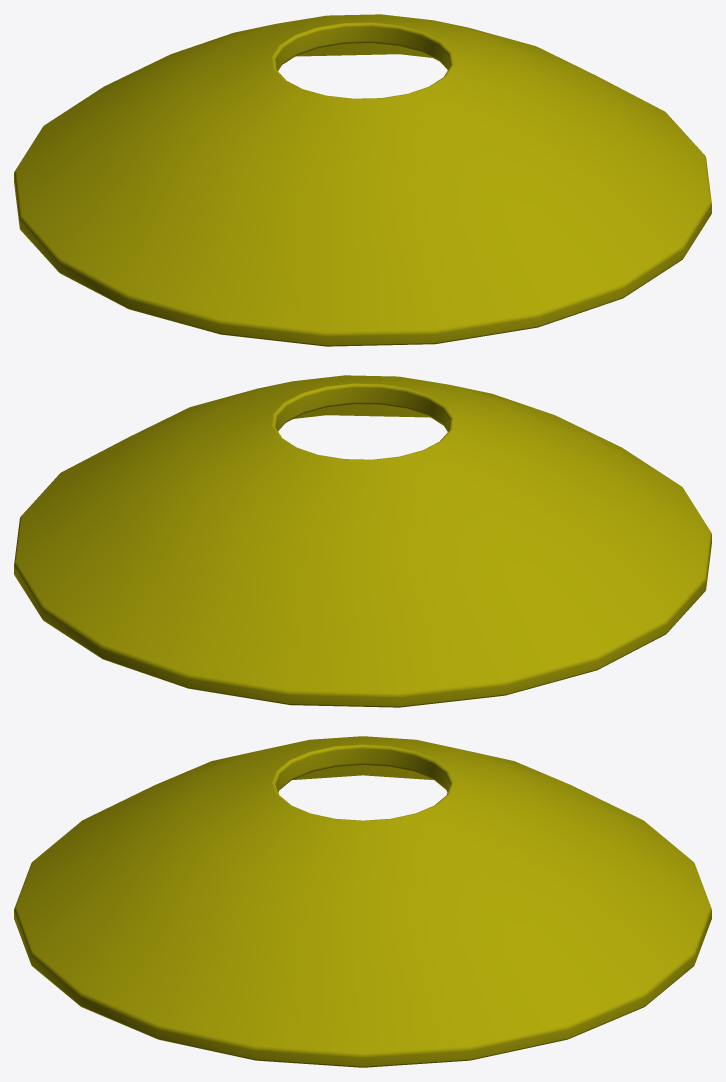
3 renders of one model, top to bottom at view 1: azimuth 30°, elevation 25°; view 2: azimuth 150°, elevation 25°; view 3: azimuth 270°, elevation 25°, orthographic.
Visible parts, largest first — view 1: pCylinder12; view 2: pCylinder12; view 3: pCylinder12.
Part boxes in pixels (<box>): pCylinder12: <box>14,14,711,346</box>; pCylinder12: <box>14,375,711,707</box>; pCylinder12: <box>14,736,711,1067</box>.
Size of the model in its own units: 20 by 4.38 by 20.
